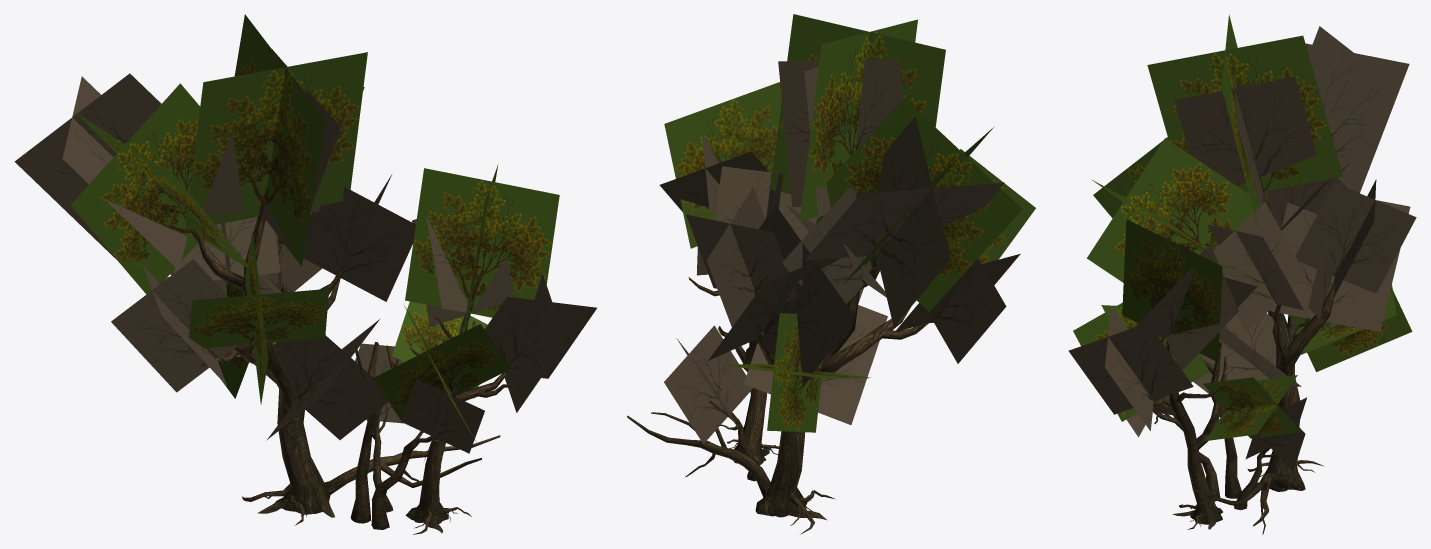
File: zhaozeshu_63.FBX
The picture shows the model from 3 angles, left to right: view 1: azimuth 30°, elevation 25°; view 2: azimuth 150°, elevation 25°; view 3: azimuth 270°, elevation 25°; orthographic projection. The views are drawn at different scales.
Visible parts, largest first — view 1: zhaozeshu_63_shuye, zhaozeshu_63_shuzhi, zhaozeshu_63_ncl1_2; view 2: zhaozeshu_63_shuzhi, zhaozeshu_63_shuye, zhaozeshu_63_ncl1_2; view 3: zhaozeshu_63_shuzhi, zhaozeshu_63_shuye, zhaozeshu_63_ncl1_2.
Part boxes in pixels (bbox=[...]): zhaozeshu_63_shuye: bbox=[70, 14, 559, 440]; zhaozeshu_63_shuzhi: bbox=[14, 49, 596, 460]; zhaozeshu_63_ncl1_2: bbox=[197, 214, 520, 534]; zhaozeshu_63_shuzhi: bbox=[659, 59, 1020, 443]; zhaozeshu_63_shuye: bbox=[664, 14, 1035, 432]; zhaozeshu_63_ncl1_2: bbox=[627, 255, 935, 534]; zhaozeshu_63_shuzhi: bbox=[1068, 26, 1416, 471]; zhaozeshu_63_shuye: bbox=[1073, 14, 1412, 441]; zhaozeshu_63_ncl1_2: bbox=[1147, 191, 1338, 534].
Size of what is drawn, in the model's own units: 2380 by 2648 by 1939.
